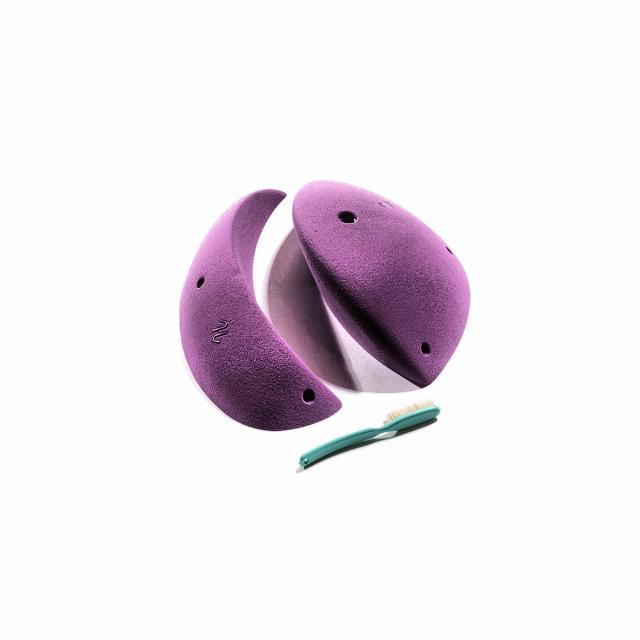Hold: (156, 180, 472, 426)
